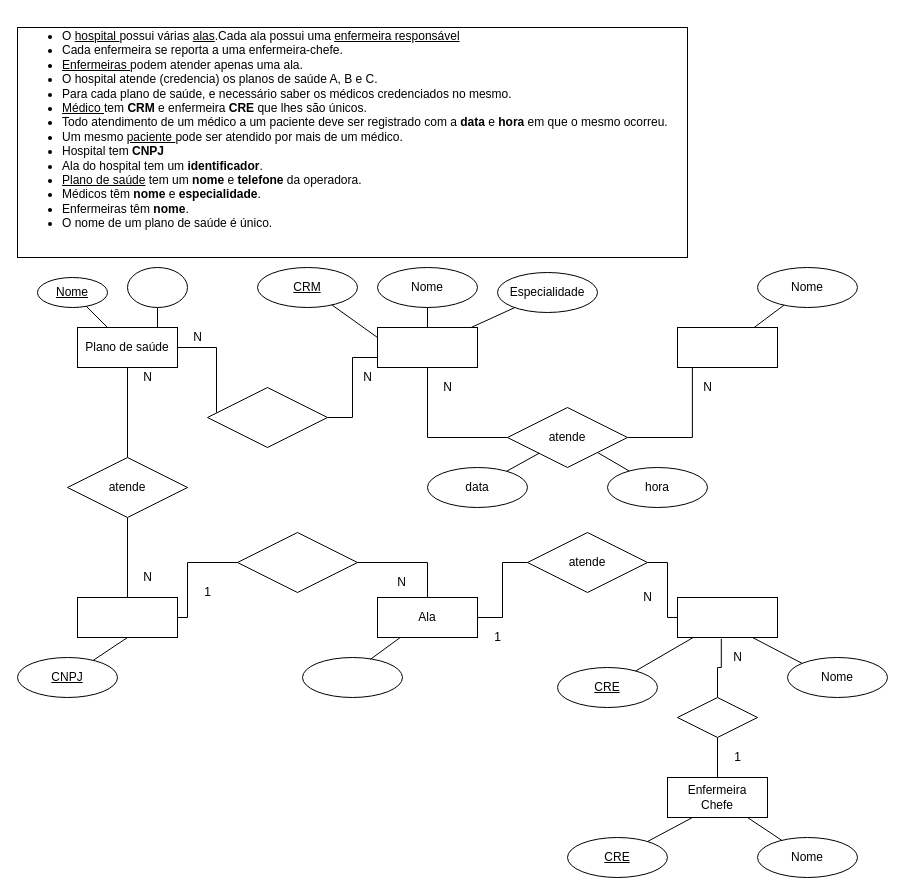
The diagram is 905 pixels wide and 895 high, and some of its shapes have lost their labels. The shapes that lost their labels are listed below. From the top down, each one's centre as x and y in pixels, then its label:
At (157,287): "tel".
At (427,347): "Médico".
At (727,347): "Paciente".
At (267,417): "credencia".
At (297,562): "possui".
At (127,617): "Hospital".
At (727,617): "Enfermeira".
At (352,677): "ID".
At (717,717): "chefia".
